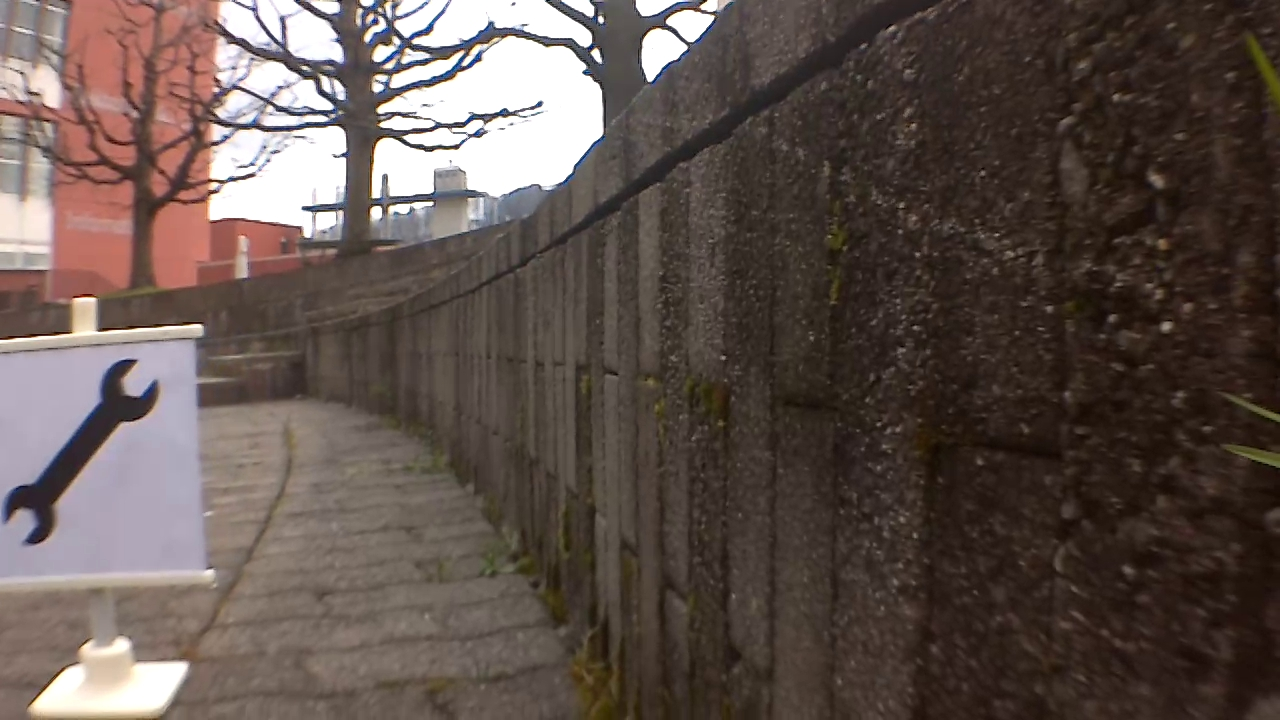wrench: (2, 359, 163, 550)
